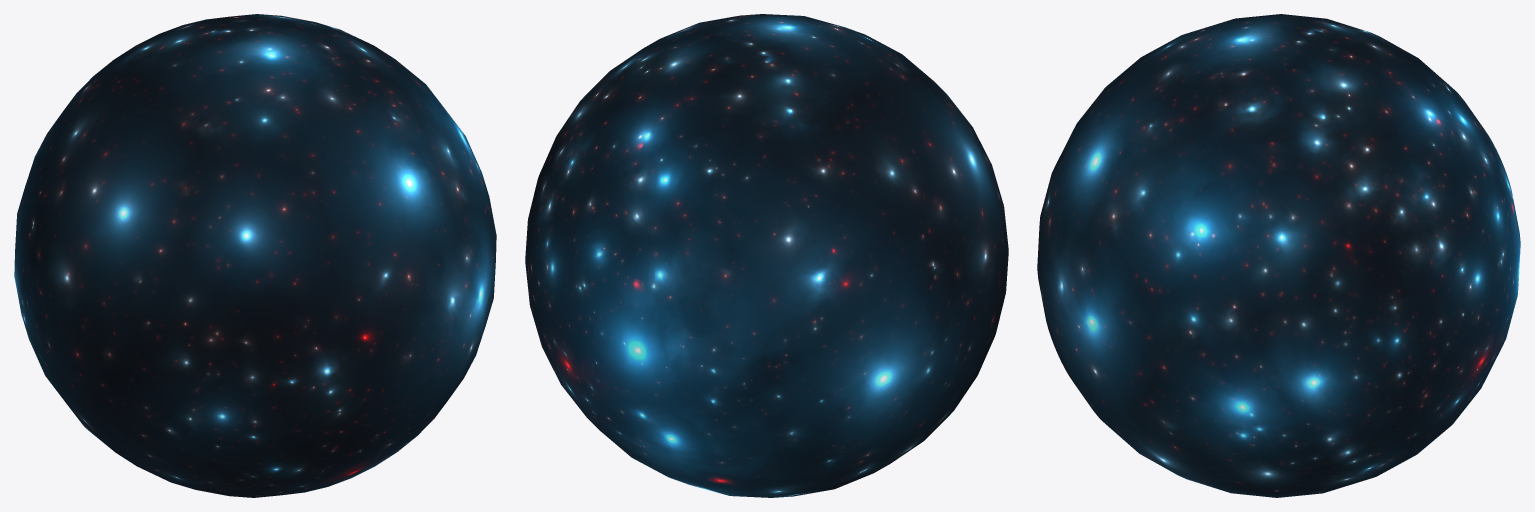
Rendered from enviroment.glb.
The picture shows the model from 3 angles, left to right: view 1: azimuth 30°, elevation 25°; view 2: azimuth 150°, elevation 25°; view 3: azimuth 270°, elevation 25°; orthographic projection.
Parts seen in each view (by area): view 1: space; view 2: space; view 3: space.
Boxes of the visible parts, x1,y1,x2,y2 form: space: [14, 14, 496, 497]; space: [525, 14, 1008, 497]; space: [1037, 14, 1520, 497].
Bounding box in the file's own units: 2.31 × 2.31 × 2.32.
Materials: 7 (5 with a texture image).
